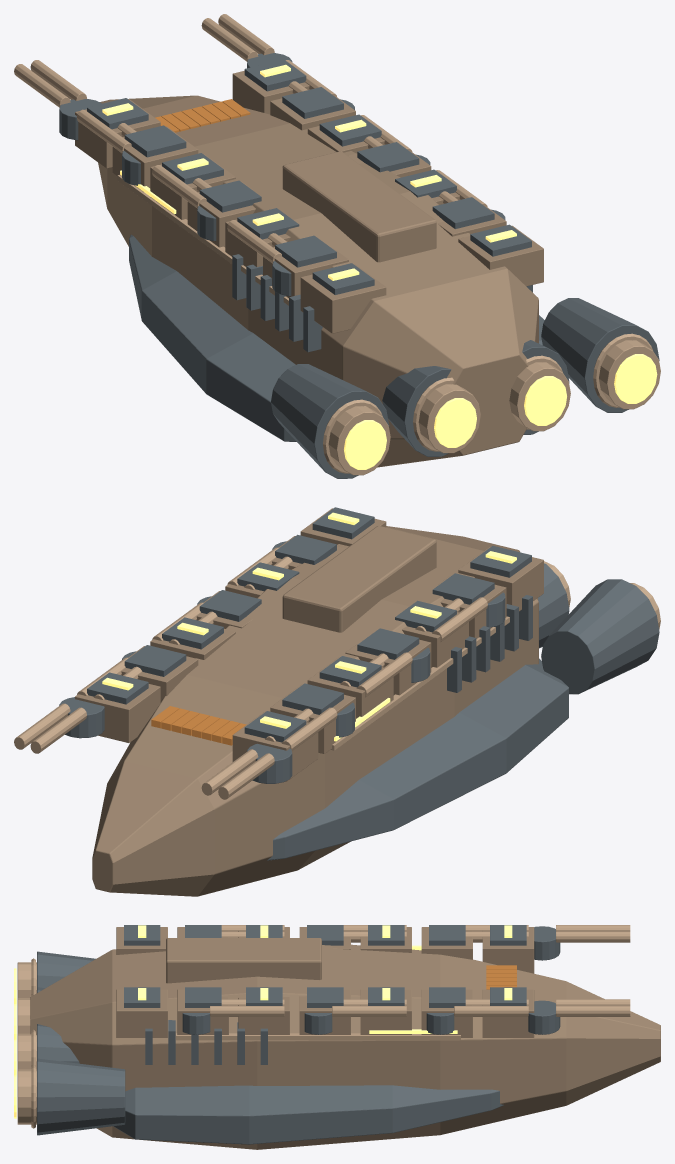
File: battleship_bastion.glb
3 renders of one model, top to bottom at view 1: azimuth 30°, elevation 25°; view 2: azimuth 150°, elevation 25°; view 3: azimuth 270°, elevation 25°, orthographic. The views are drawn at different scales.
Parts seen in each view (by area): view 1: deepforge_hull.002, deepforge_dark.002, deepforge_trim.002, deepforge_glow.002, deepforge_glass.002; view 2: deepforge_hull.002, deepforge_dark.002, deepforge_trim.002, deepforge_glow.002, deepforge_glass.002; view 3: deepforge_hull.002, deepforge_dark.002, deepforge_trim.002, deepforge_glow.002, deepforge_glass.002.
Boxes of the visible parts, left/top/right/bottom form: deepforge_hull.002: left=75, top=70, right=543, bottom=467; deepforge_dark.002: left=59, top=53, right=659, bottom=478; deepforge_trim.002: left=14, top=14, right=660, bottom=475; deepforge_glow.002: left=102, top=64, right=657, bottom=469; deepforge_glass.002: left=155, top=99, right=250, bottom=132; deepforge_hull.002: left=75, top=508, right=543, bottom=896; deepforge_dark.002: left=59, top=507, right=659, bottom=860; deepforge_trim.002: left=14, top=547, right=660, bottom=799; deepforge_glow.002: left=102, top=512, right=516, bottom=741; deepforge_glass.002: left=151, top=706, right=246, bottom=745; deepforge_hull.002: left=30, top=927, right=660, bottom=1149; deepforge_dark.002: left=37, top=925, right=560, bottom=1144; deepforge_trim.002: left=17, top=925, right=630, bottom=1128; deepforge_glow.002: left=14, top=925, right=512, bottom=1118; deepforge_glass.002: left=486, top=965, right=516, bottom=989.
Bounding box in the file's own units: 110 × 65 × 220.
